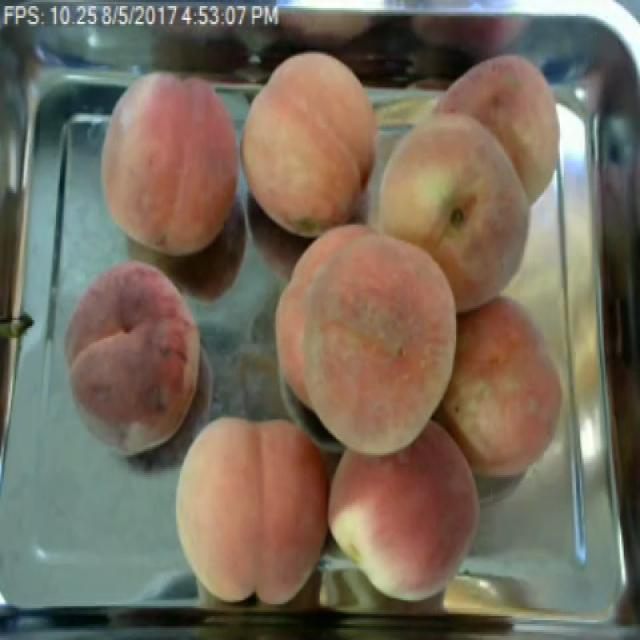Fruit: (353, 40, 576, 326), (259, 209, 477, 469), (165, 400, 344, 614), (50, 247, 218, 467), (324, 408, 495, 612), (237, 38, 400, 252), (429, 286, 583, 489), (93, 62, 247, 264)
